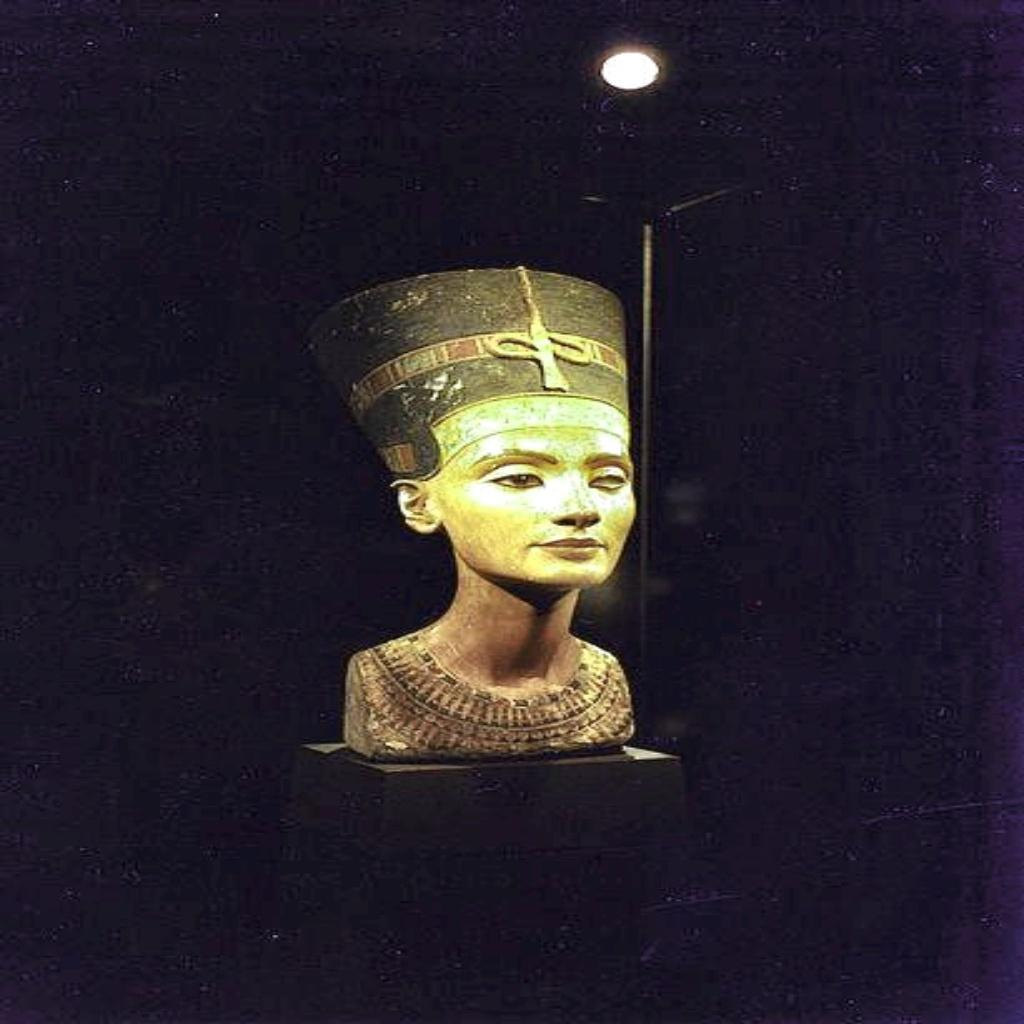Nefertiti: (302, 263, 648, 763)
